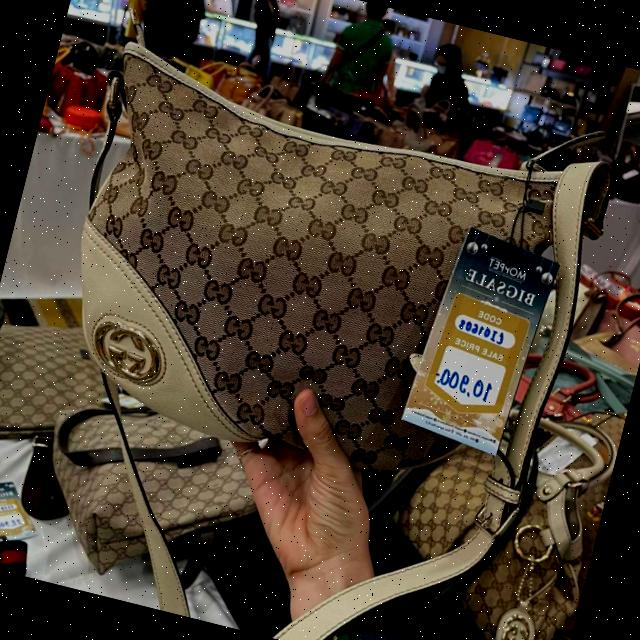handbag: (18, 29, 606, 518)
